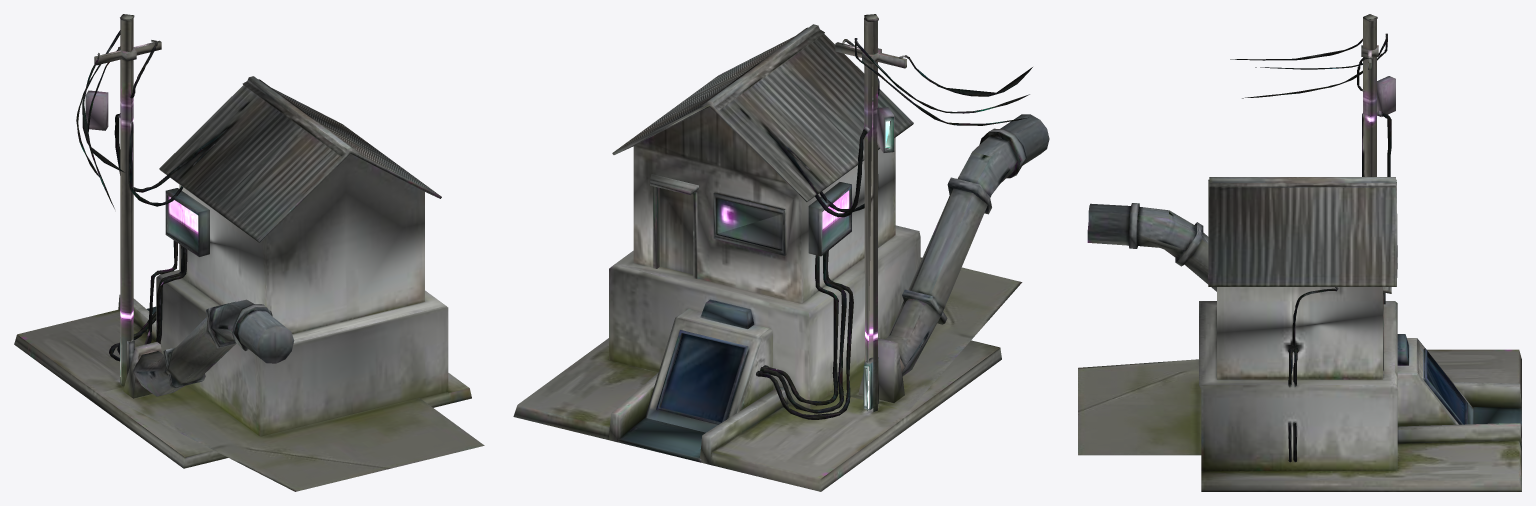
The model's file is micro_hydro.glb.
The picture shows the model from 3 angles, left to right: view 1: azimuth 30°, elevation 25°; view 2: azimuth 150°, elevation 25°; view 3: azimuth 270°, elevation 25°; orthographic projection. The views are drawn at different scales.
Parts seen in each view (by area): view 1: Body, Glow; view 2: Body, Glow; view 3: Body.
Part boxes in pixels (<box>): Body: <box>14,14,484,491</box>; Glow: <box>120,196,198,376</box>; Body: <box>513,14,1049,491</box>; Glow: <box>717,121,889,408</box>; Body: <box>1078,14,1521,491</box>.
Size of the model in its own units: 8 by 8.43 by 9.48.
Materials: 2 (2 with a texture image).
